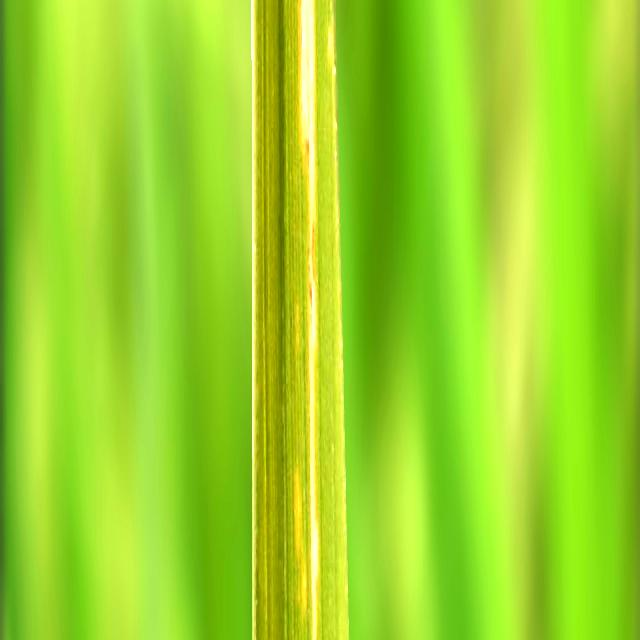BLS: (300, 0, 319, 640)
